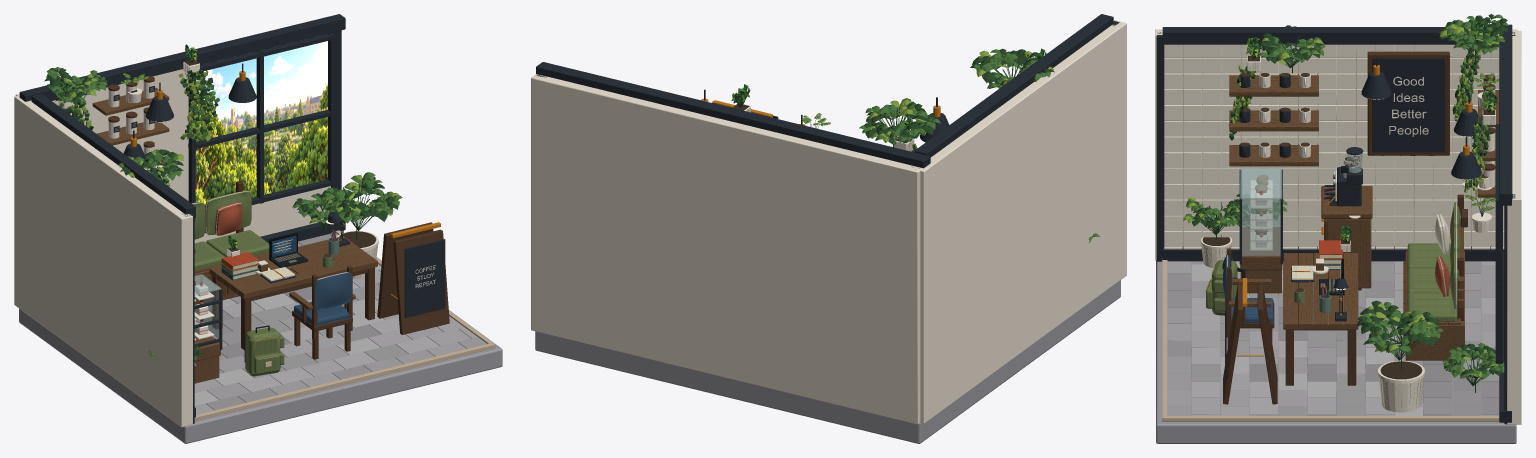
Rendered from cafe-mobile.glb.
3 renders of one model, left to right at view 1: azimuth 30°, elevation 25°; view 2: azimuth 150°, elevation 25°; view 3: azimuth 270°, elevation 25°, orthographic. The views are drawn at different scales.
Parts seen in each view (by area): view 1: asset-architecture, asset-cafe-menu, asset-desk, asset-cafe-banquette, asset-chair, asset-Window large fern, asset-pastry-display, asset-Cafe trailing leaves 2, asset-student-backpack, asset-Cafe rich planting 0, asset-Cafe rich planting 1, asset-study-laptop (+4 smaller); view 2: asset-architecture, asset-Cafe rich planting 0, asset-Cafe rich planting 1; view 3: asset-architecture, asset-Coffee chalkboard, asset-Window large fern, asset-cafe-banquette, asset-desk, asset-pastry-display, asset-coffee-cabinet, asset-cafe-menu, asset-Cafe rich planting 0, asset-chair, asset-Pastry greenery, asset-Cafe rich planting 3 (+17 smaller).
Boxes of the visible parts, x1,y1,x2,y2 form: asset-architecture: (14,14,502,443); asset-cafe-menu: (377,222,449,334); asset-desk: (209,236,377,349); asset-cafe-banquette: (192,180,269,273); asset-chair: (289,266,355,359); asset-Window large fern: (322,172,402,278); asset-pastry-display: (194,274,222,361); asset-Cafe trailing leaves 2: (178,69,219,141); asset-student-backpack: (244,325,284,376); asset-Cafe rich planting 0: (44,67,107,108); asset-Cafe rich planting 1: (118,149,184,180); asset-study-laptop: (269,233,308,267); asset-architecture: (531,14,1126,443); asset-Cafe rich planting 0: (859,98,940,144); asset-Cafe rich planting 1: (970,48,1054,88); asset-architecture: (1155,24,1521,443); asset-Coffee chalkboard: (1367,51,1450,155); asset-Window large fern: (1357,300,1443,412); asset-cafe-banquette: (1407,194,1463,324); asset-desk: (1283,253,1358,385); asset-pastry-display: (1239,168,1282,270); asset-coffee-cabinet: (1321,186,1372,290); asset-cafe-menu: (1223,284,1277,404); asset-Cafe rich planting 0: (1439,14,1508,61); asset-chair: (1222,248,1274,347); asset-Pastry greenery: (1183,197,1247,267); asset-Cafe rich planting 3: (1442,343,1504,392).
Size of the model in its own units: 4.54 by 3.31 by 4.01.
Materials: 59 (1 with a texture image).
